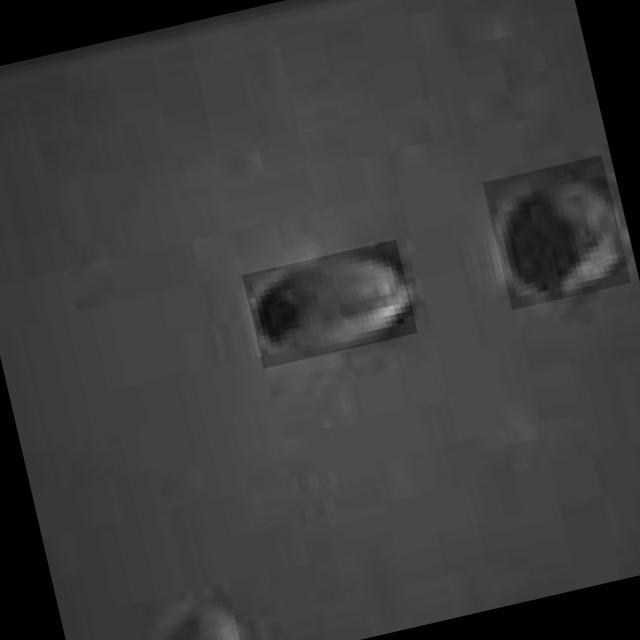crater: (482, 154, 630, 310), (242, 238, 418, 368), (142, 591, 250, 640)
